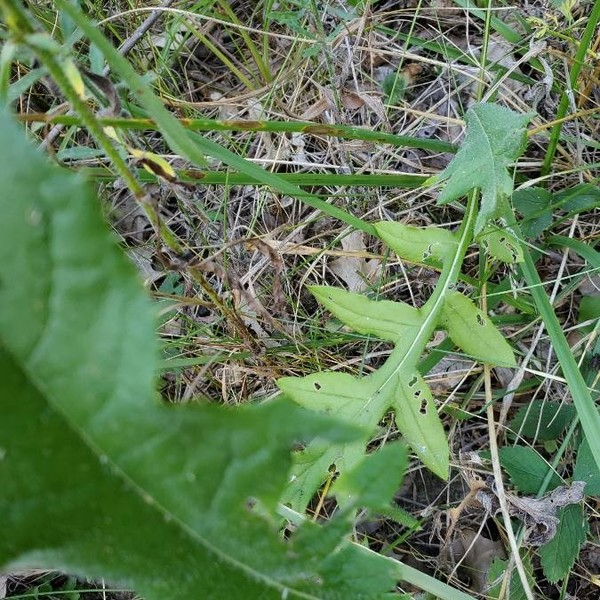obstacle: (225, 125, 557, 583)
